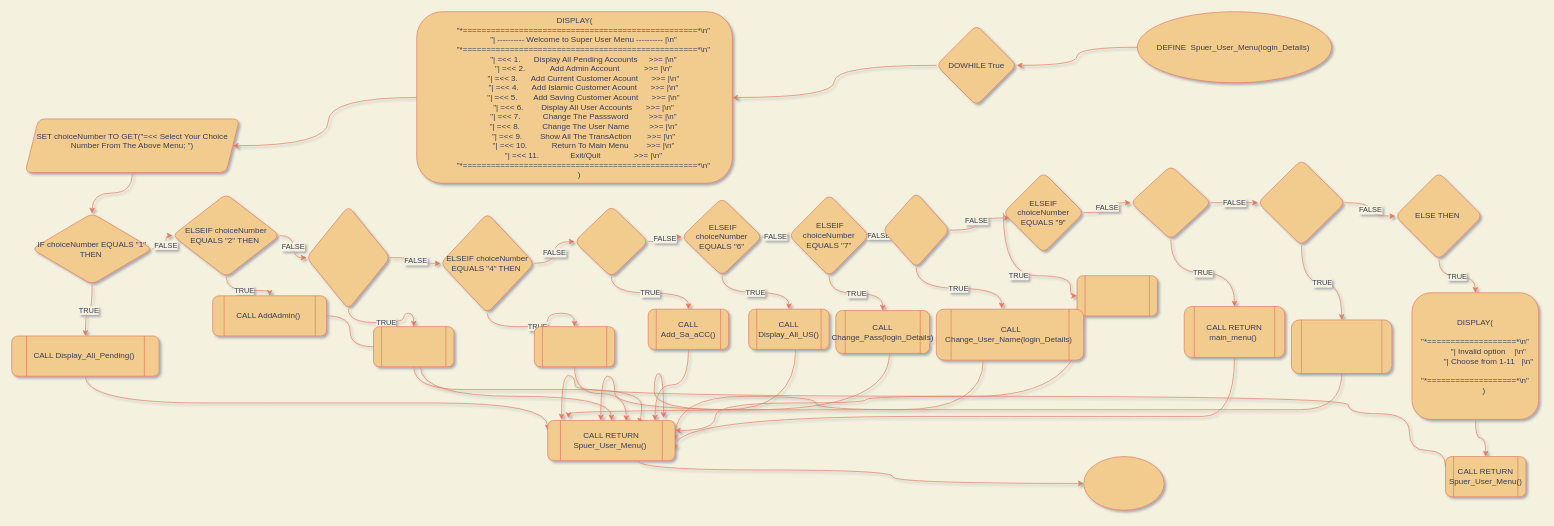
Some shapes in this 1554 by 526 pixel diagram are drawn without their labels. Here are the shapes that lost their labels. From the top down, the centre of each, then its label:
(1170,202): ELSEIF choiceNumber EQUALS "10"
(1301,202): ELSEIF choiceNumber EQUALS "11"
(611,241): ELSEIF choiceNumber EQUALS "5"
(916,230): ELSEIF choiceNumber EQUALS "8"
(348,257): ELSEIF choiceNumber EQUALS "3" THEN
(1116,295): Show_All_Trans()
(413,346): Add_CCU_ACC()
(574,346): CALL Add_ICU_ACC()
(1341,346): CALL exit()
(1123,483): ENDDEFINE
